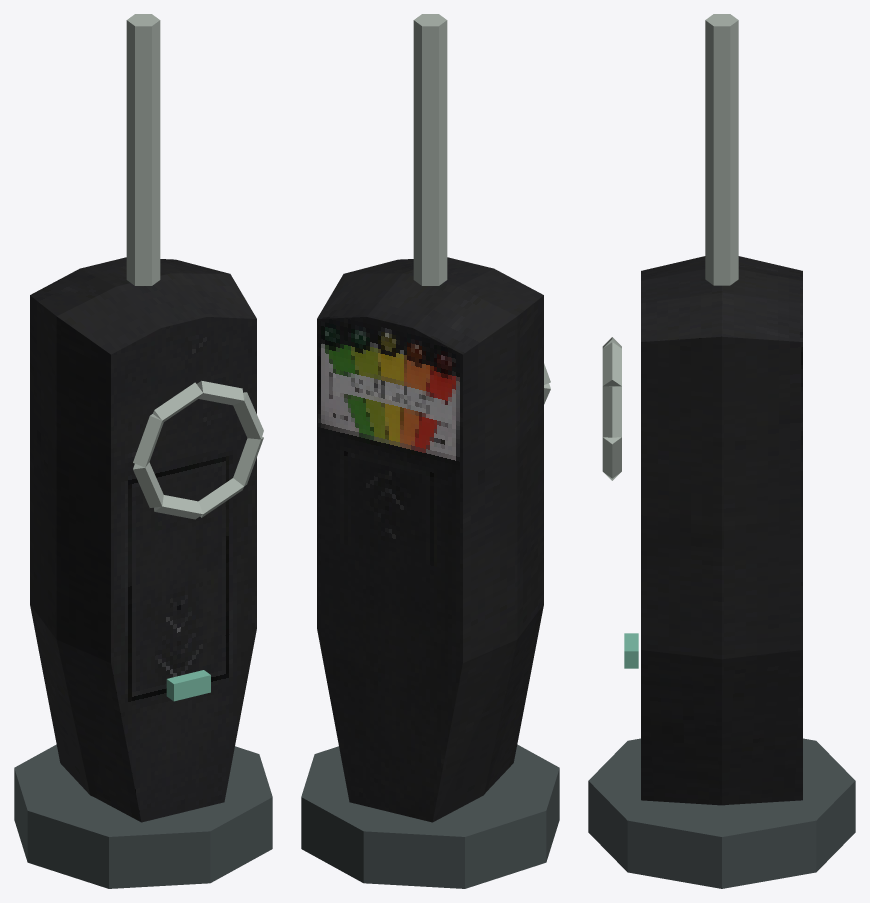
File: blender_emf_array_1_node.glb
The picture shows the model from 3 angles, left to right: view 1: azimuth 30°, elevation 25°; view 2: azimuth 150°, elevation 25°; view 3: azimuth 270°, elevation 25°; orthographic projection.
Visible parts, largest first — view 1: blender_emf_array_1_node; view 2: blender_emf_array_1_node; view 3: blender_emf_array_1_node.
Boxes of the visible parts, x1,y1,x2,y2 form: blender_emf_array_1_node: [14, 14, 272, 888]; blender_emf_array_1_node: [301, 14, 559, 888]; blender_emf_array_1_node: [588, 14, 855, 888].
Size of the model in its own units: 0.056 by 0.188 by 0.056.
1 material, 1 textured.
